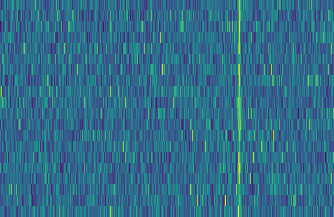signal: (235, 0, 245, 217)
